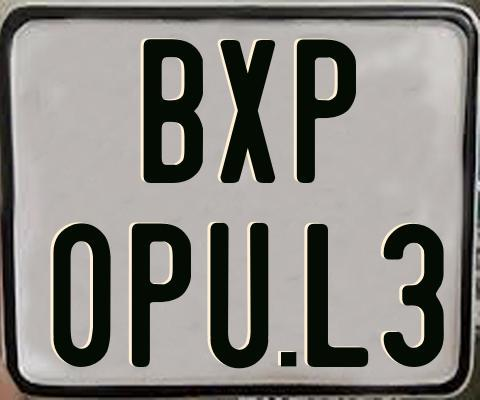0: (52, 221, 112, 366)
3: (384, 224, 448, 369)
B: (144, 39, 205, 184)
L: (304, 221, 366, 370)
P: (131, 223, 192, 368), (297, 37, 357, 182)
U: (208, 221, 266, 373)
X: (219, 39, 280, 184)
